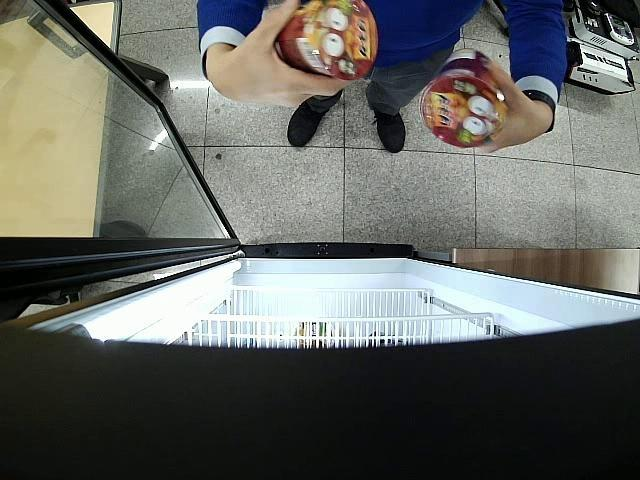06_nuguri_S: (420, 50, 508, 148), (274, 0, 378, 80)
